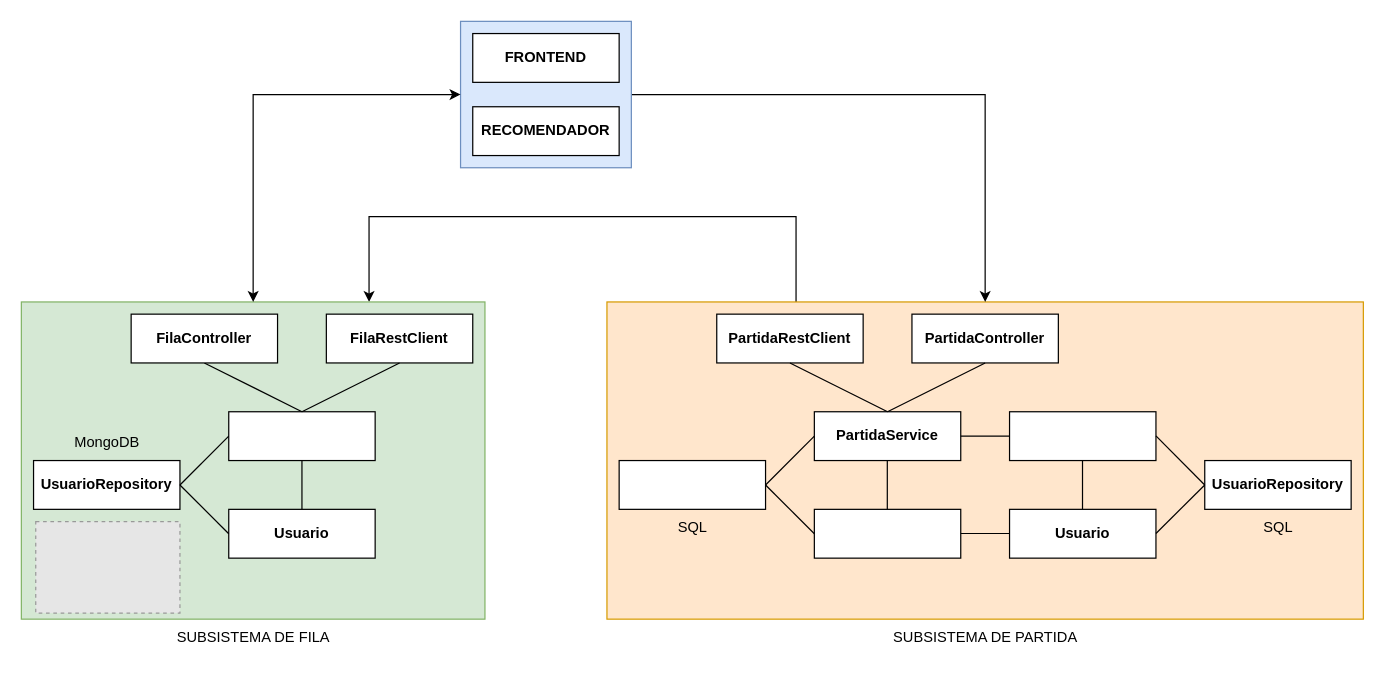
Some shapes in this 1385 by 677 pixel diagram are drawn without their labels. Grey dashed boxes stand in for pictures. The shapes that lost their labels are listed below. From the top down, each one's centre as x and y in pixels, then its label:
At (301,436): "FilaService".
At (1082,436): "UsuarioService".
At (692,484): "PartidaRepository".
At (887,533): "Partida".
